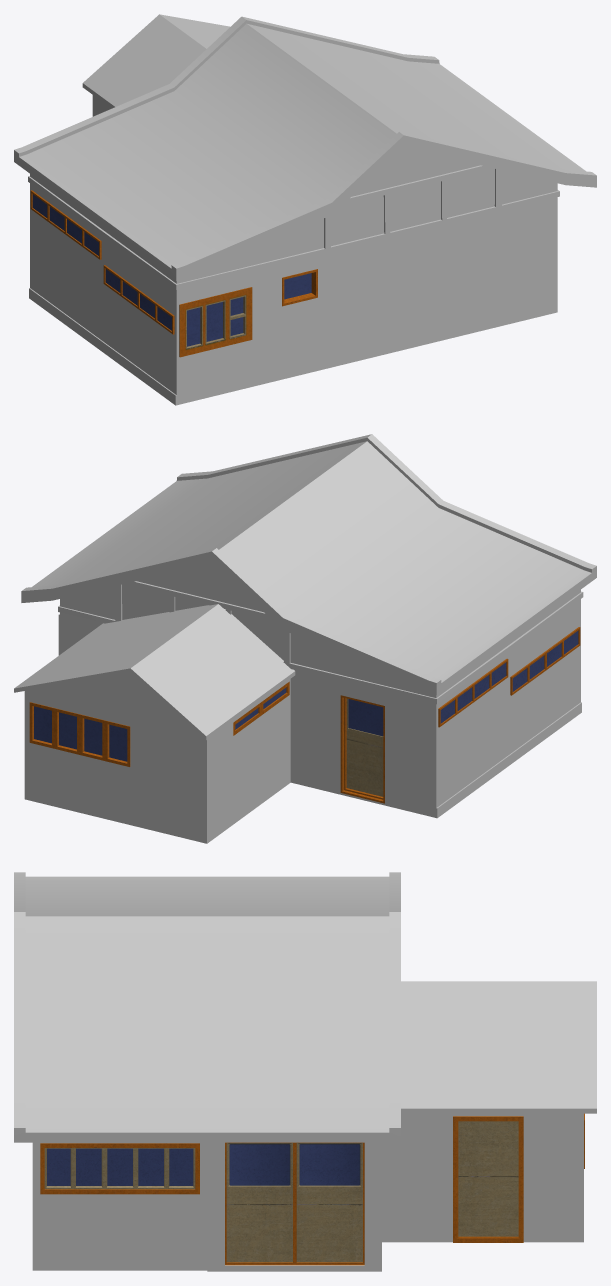
Rendered from House1-3.fbx.
3 views of the same model, one above another, from view 1: azimuth 30°, elevation 25°; view 2: azimuth 150°, elevation 25°; view 3: azimuth 270°, elevation 25° (orthographic). The views are drawn at different scales.
Visible parts, largest first — view 1: House1-3; view 2: House1-3; view 3: House1-3.
Part boxes in pixels (box(x1,y1,x2,y2)): House1-3: box(14, 14, 596, 405); House1-3: box(14, 434, 596, 843); House1-3: box(14, 872, 596, 1271).
Size of the model in its own units: 662 by 334 by 667.
